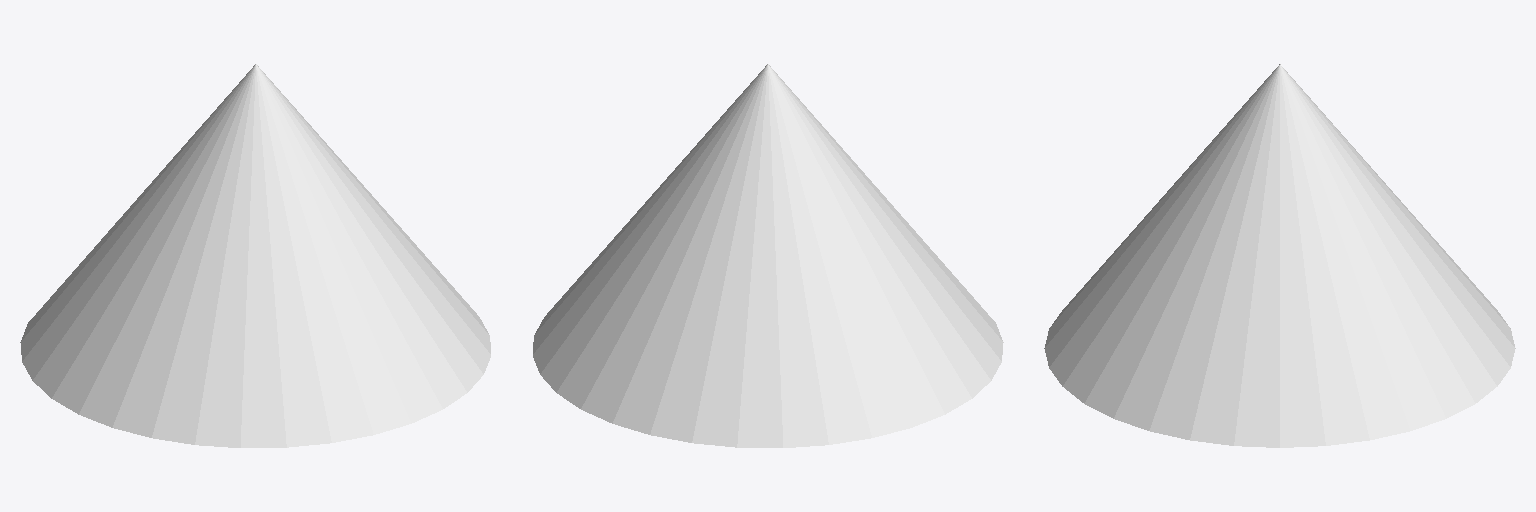
robot.urdf — cylinder:
<?xml version="1.0"?> 

<!-- Copyright 2023 [author] -->

<!-- Licensed under the Apache License, Version 2.0 (the "License"); -->
<!-- you may not use this file except in compliance with the License. -->
<!-- You may obtain a copy of the License at -->

<!--     http://www.apache.org/licenses/LICENSE-2.0 -->

<!-- Unless required by applicable law or agreed to in writing, software -->
<!-- distributed under the License is distributed on an "AS IS" BASIS, -->
<!-- WITHOUT WARRANTIES OR CONDITIONS OF ANY KIND, either express or implied. -->
<!-- See the License for the specific language governing permissions and -->
<!-- limitations under the License. -->

<!-- Authors: [author], [author] -->

<robot name="cylinder">
    <link name="cylinder">
        <visual>
            <origin xyz="2 -7 0" rpy="0 0 0" />
            <geometry>
                <mesh filename='v2_cone_obstacle.stl' />
            </geometry>
            <material name="grey">
                <color rgba="0.95 0.95 0.95 1"/>
            </material>
        </visual>
        <collision>
            <origin xyz="2 -7 0" rpy="0 0 0" />
            <geometry>
                <mesh filename='v2_cone_obstacle.stl' />
            </geometry>
        </collision>
        <inertial>
            <mass value="10"/>
            <inertia ixx="0.4" ixy="0.0" ixz="0.0" iyy="0.4" iyz="0.0" izz="0.2" />
        </inertial>
    </link>
</robot>

--- What the picture shows (computed from the rendered views, not written in the file) ---
Views: 3 orthographic renders of the robot side by side, from view 1: azimuth 30°, elevation 25°; view 2: azimuth 150°, elevation 25°; view 3: azimuth 270°, elevation 25°.
Robot: cylinder — 1 links, 0 joints (none); root link cylinder; default pose: all joints at 0.
Visible links, largest first — view 1: cylinder; view 2: cylinder; view 3: cylinder.
Link boxes in pixels (left/top/right/bottom): cylinder: left=20, top=64, right=490, bottom=447; cylinder: left=533, top=64, right=1003, bottom=447; cylinder: left=1044, top=64, right=1515, bottom=447.
Size in the robot's own frame: 0.75 by 0.75 by 0.5 metres.
1 mesh visuals loaded from 1 distinct referenced files (1 binary STL).
